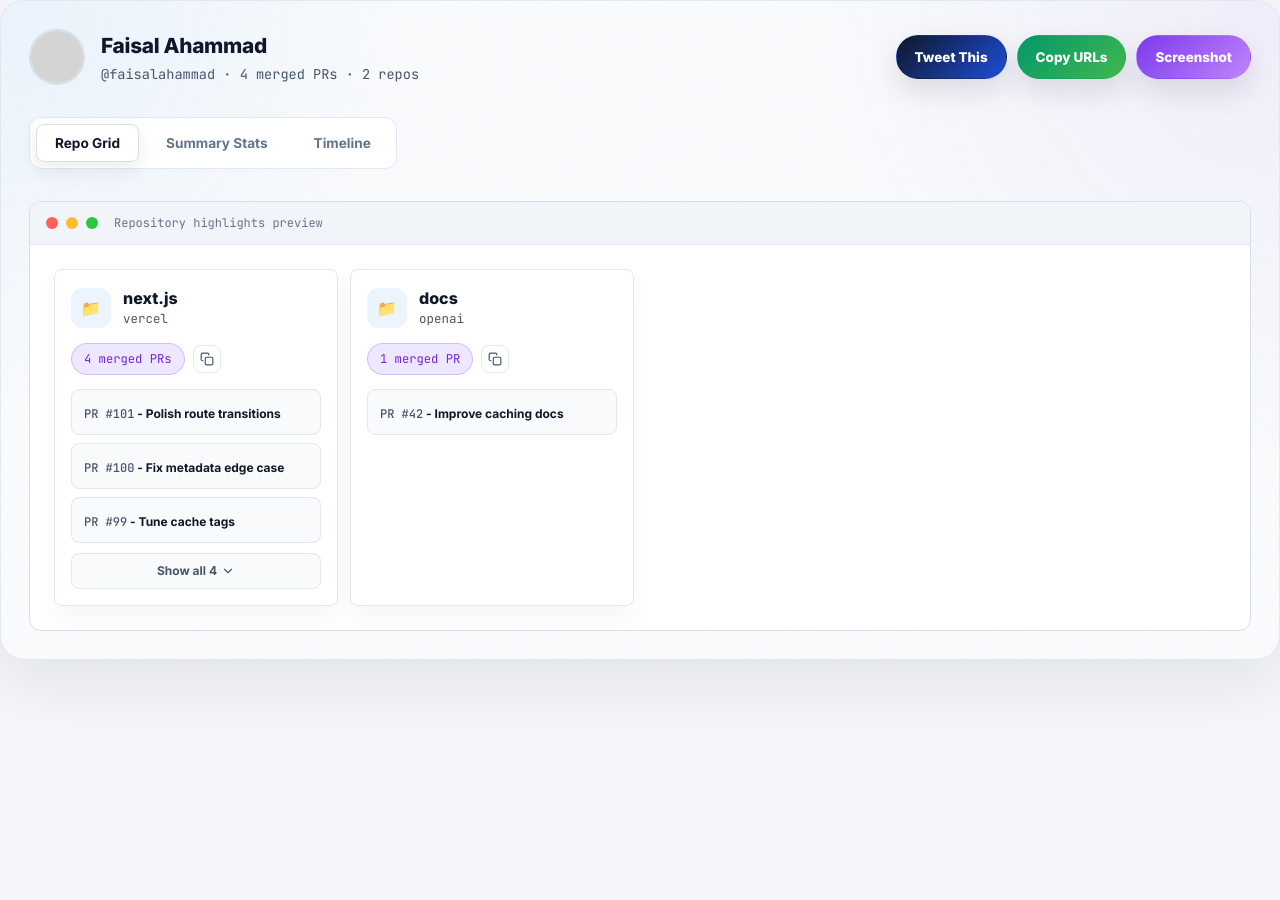
Test: ProfileResults › switches views without refetching and updates the preview label
The width and height of the screenshot is (1280, 900).
Click the button "Summary Stats". click: (217, 143)
box: x1=147 y1=124 x2=287 y2=162
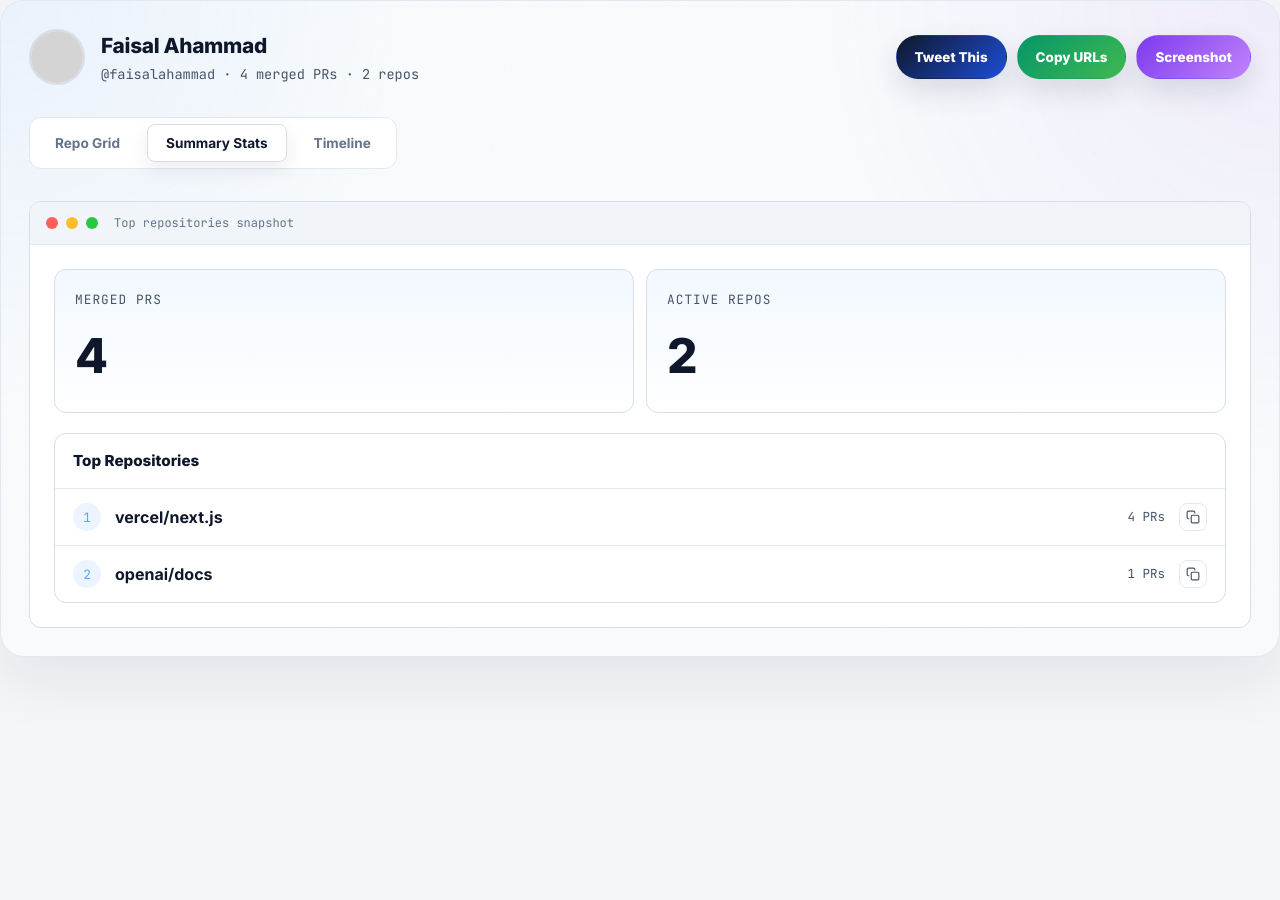
expect the text "Top Repositories" is shown: met, box x1=55 y1=434 x2=1225 y2=489
expect the text "Top repositories snapshot" is shown: met, box x1=114 y1=214 x2=294 y2=232
